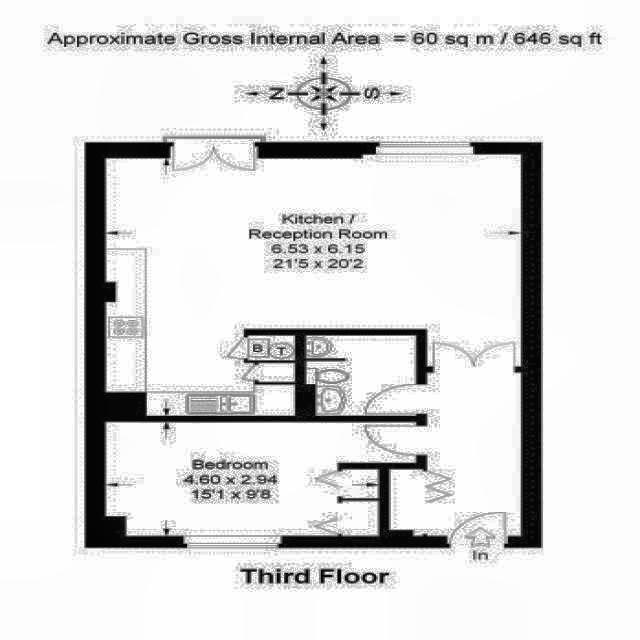room: (107, 155, 522, 416), (105, 423, 416, 537), (389, 372, 520, 536), (307, 336, 416, 415)
